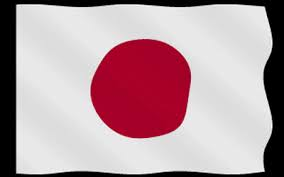Japanese Flag: (14, 3, 275, 175)
